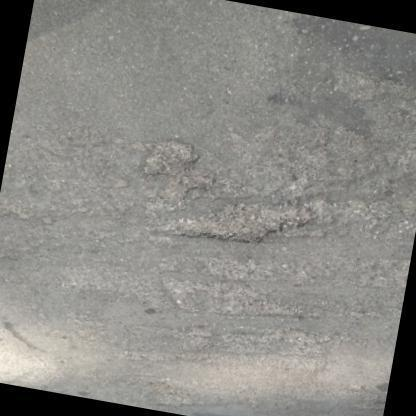pothole: (148, 199, 328, 243), (160, 278, 303, 320), (142, 136, 204, 180), (178, 175, 222, 204)
